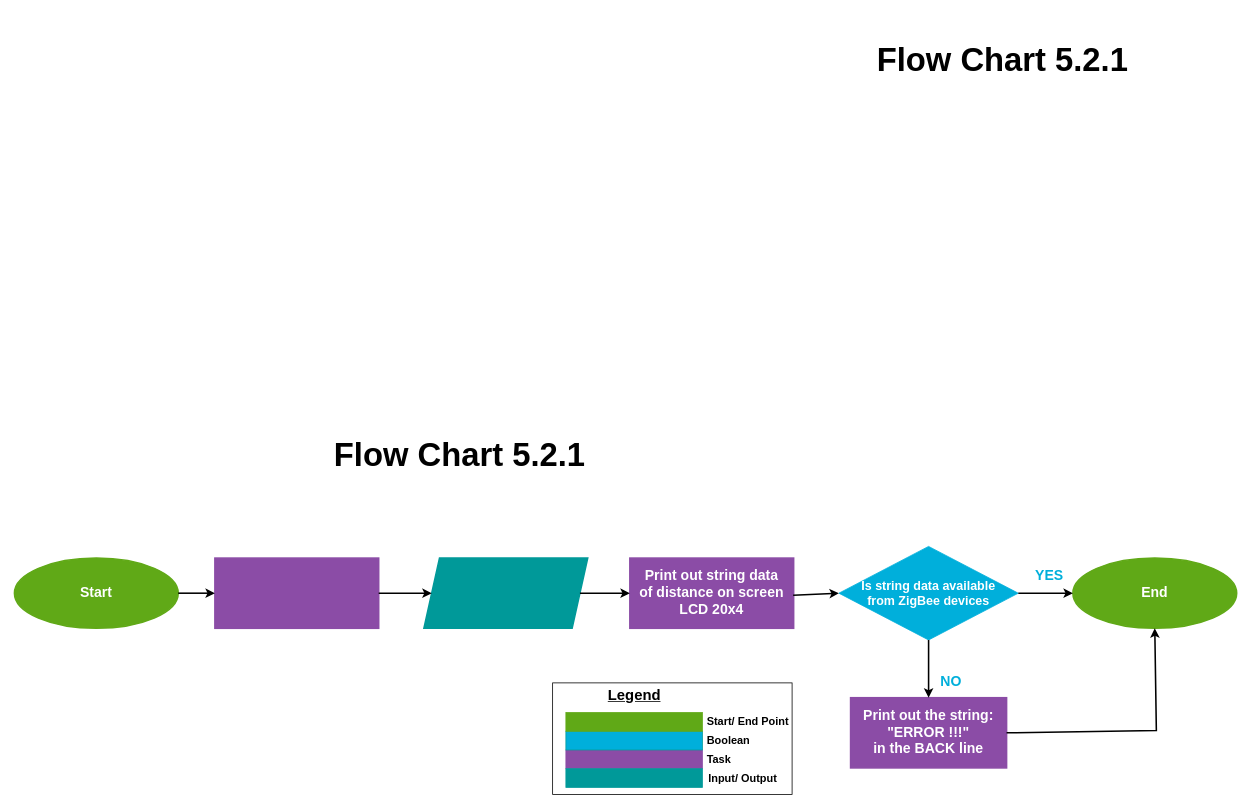
Some shapes in this 1250 by 808 pixel diagram are drawn without their labels. Here are the shapes that lost their labels. From the top down, the centre of each, then its label:
At point 296,593: "Receive string data from detecting MCU through Zigbee".
At point 505,593: "String data".
